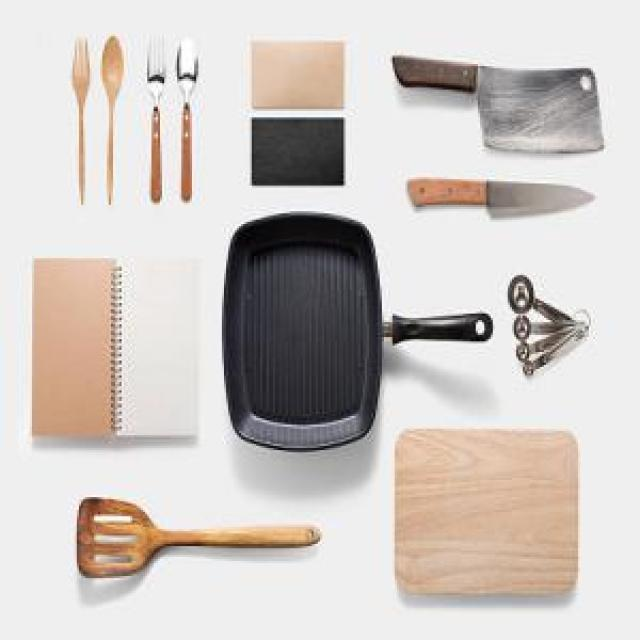knife: (390, 53, 607, 159), (399, 175, 603, 225)
